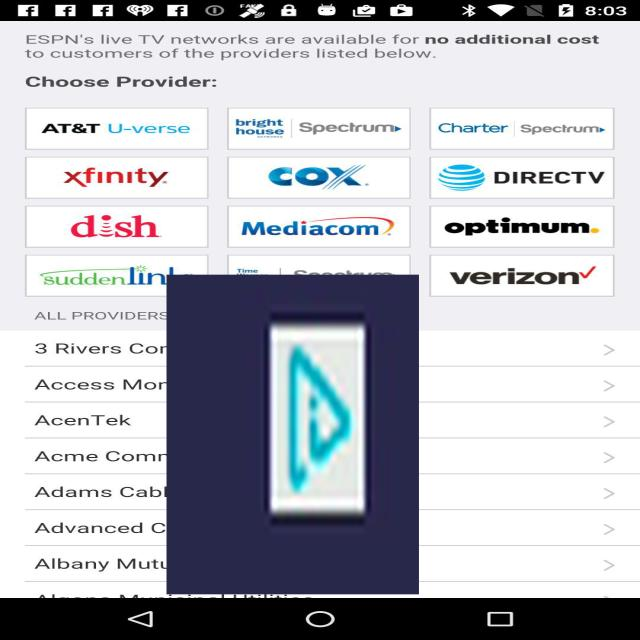sneaking: (166, 275, 419, 594)
